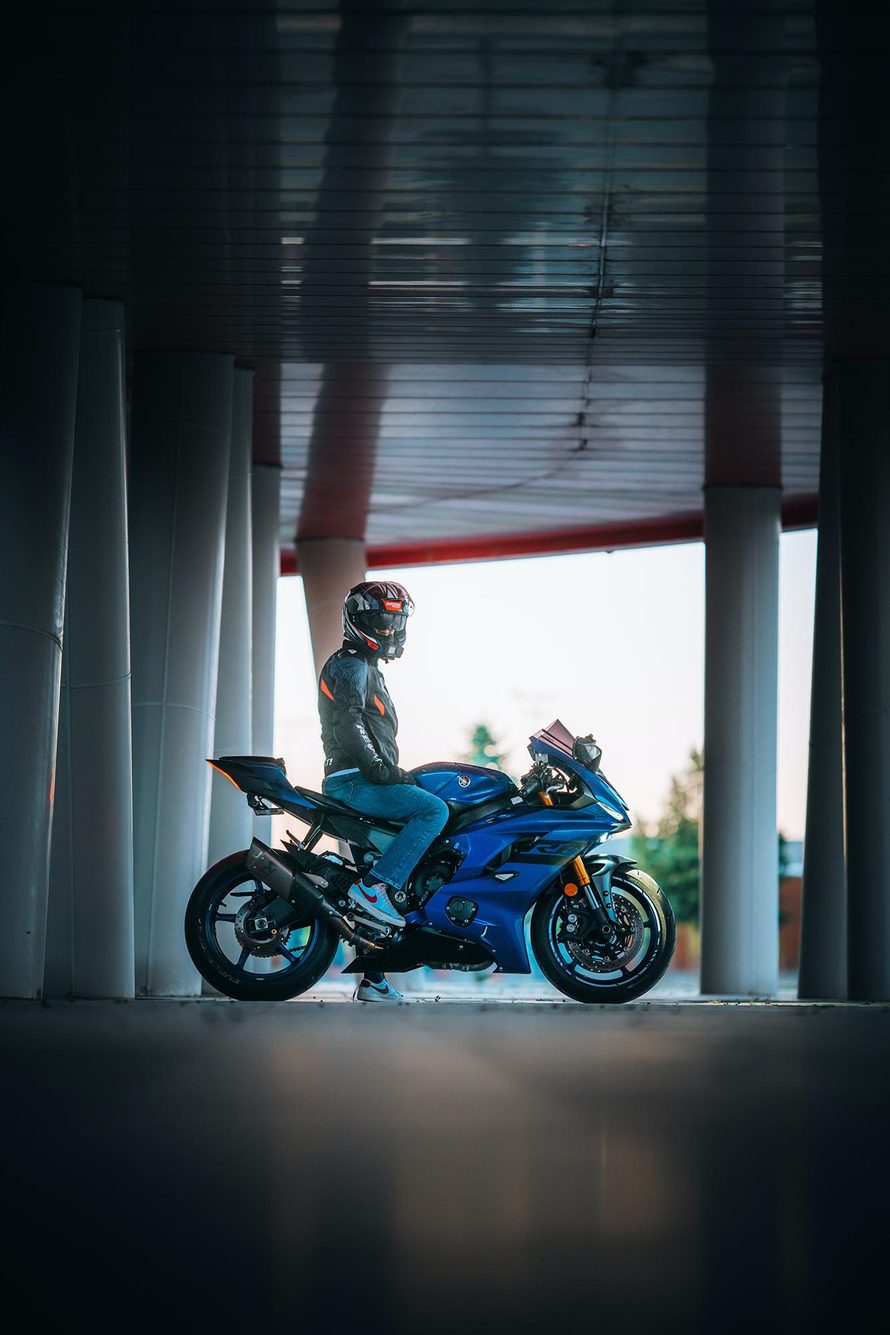helmet: (341, 580, 416, 664)
